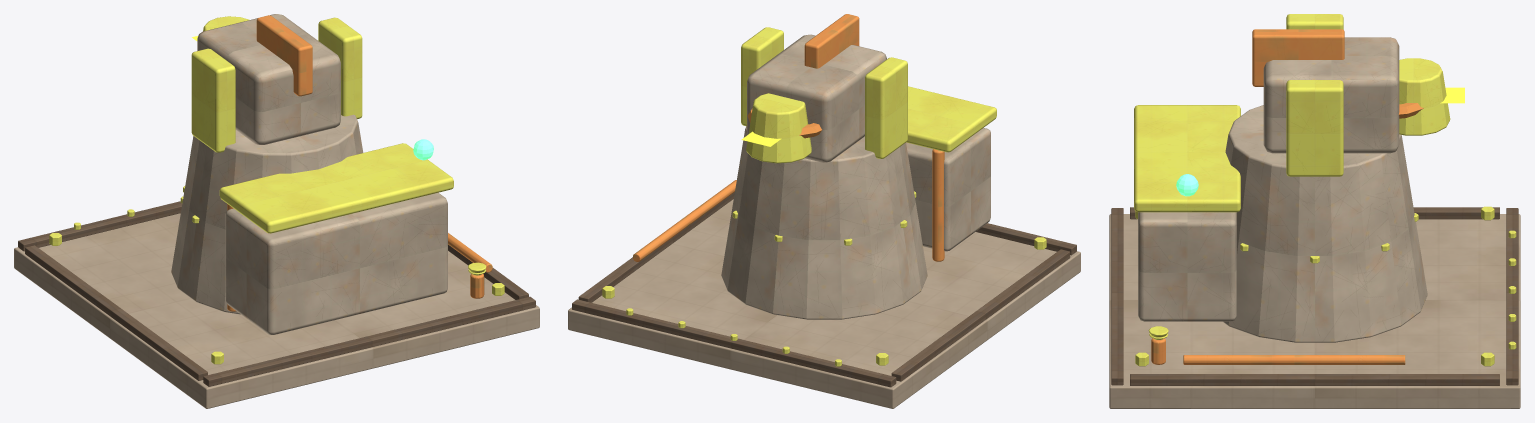
Rendered from ff-laser-turret.glb.
3 renders of one model, left to right at view 1: azimuth 30°, elevation 25°; view 2: azimuth 150°, elevation 25°; view 3: azimuth 270°, elevation 25°, orthographic. The views are drawn at different scales.
Parts seen in each view (by area): view 1: Pedestal, Pad.010, Bolt.017, Head.001, PadLipN.010, HeadFin, PadPipe.010; view 2: Pad.010, Pedestal, Bolt.017, PadLipN.010, Head.001, Emitter, PadPipe.010, HeadFin; view 3: Pedestal, Pad.010, Bolt.017, Head.001, PadLipN.010, Emitter, HeadFin, PadPipe.010, Lamp.010.
Boxes of the visible parts, left/top/right/bottom form: Pedestal: left=171, top=114, right=447, bottom=334; Pad.010: left=14, top=213, right=539, bottom=408; Bolt.017: left=49, top=17, right=504, bottom=364; Head.001: left=197, top=14, right=340, bottom=144; PadLipN.010: left=18, top=201, right=535, bottom=386; HeadFin: left=256, top=15, right=312, bottom=96; PadPipe.010: left=227, top=204, right=492, bottom=311; Pad.010: left=568, top=199, right=1080, bottom=408; Pedestal: left=721, top=125, right=990, bottom=319; Bolt.017: left=602, top=27, right=1046, bottom=366; PadLipN.010: left=572, top=192, right=1076, bottom=387; Head.001: left=747, top=34, right=886, bottom=162; Emitter: left=746, top=93, right=811, bottom=163; PadPipe.010: left=633, top=149, right=944, bottom=261; HeadFin: left=804, top=14, right=859, bottom=68; Pedestal: left=1138, top=105, right=1427, bottom=342; Pad.010: left=1109, top=214, right=1520, bottom=408; Bolt.017: left=1134, top=14, right=1516, bottom=366; Head.001: left=1263, top=37, right=1399, bottom=153; PadLipN.010: left=1111, top=207, right=1518, bottom=385; Emitter: left=1399, top=58, right=1450, bottom=135; HeadFin: left=1252, top=29, right=1344, bottom=86; PadPipe.010: left=1151, top=338, right=1405, bottom=364; Lamp.010: left=1176, top=174, right=1198, bottom=196.
Size of the model in its own units: 2 by 1.56 by 2.
9 materials, 6 textured.
